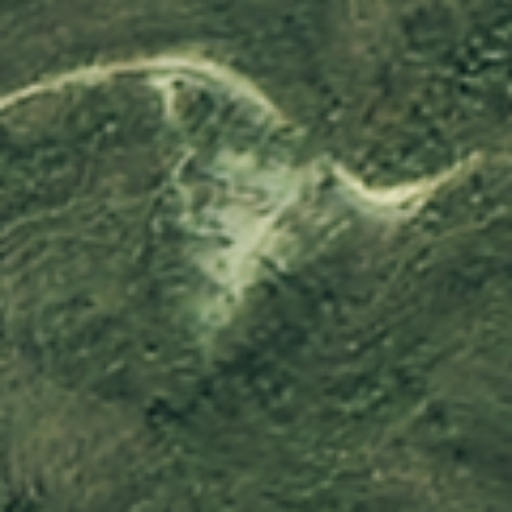landslide: (162, 145, 335, 354)
